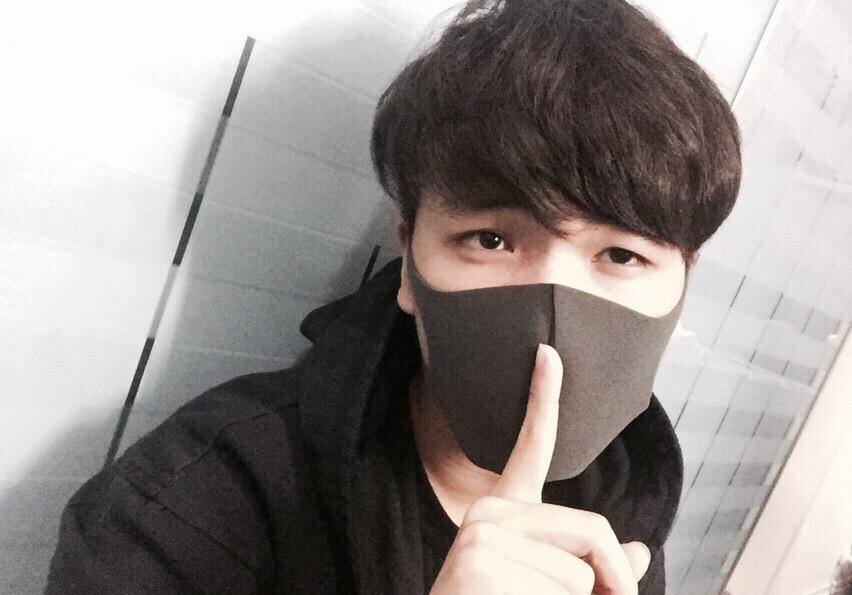OK: (420, 190, 689, 459)
